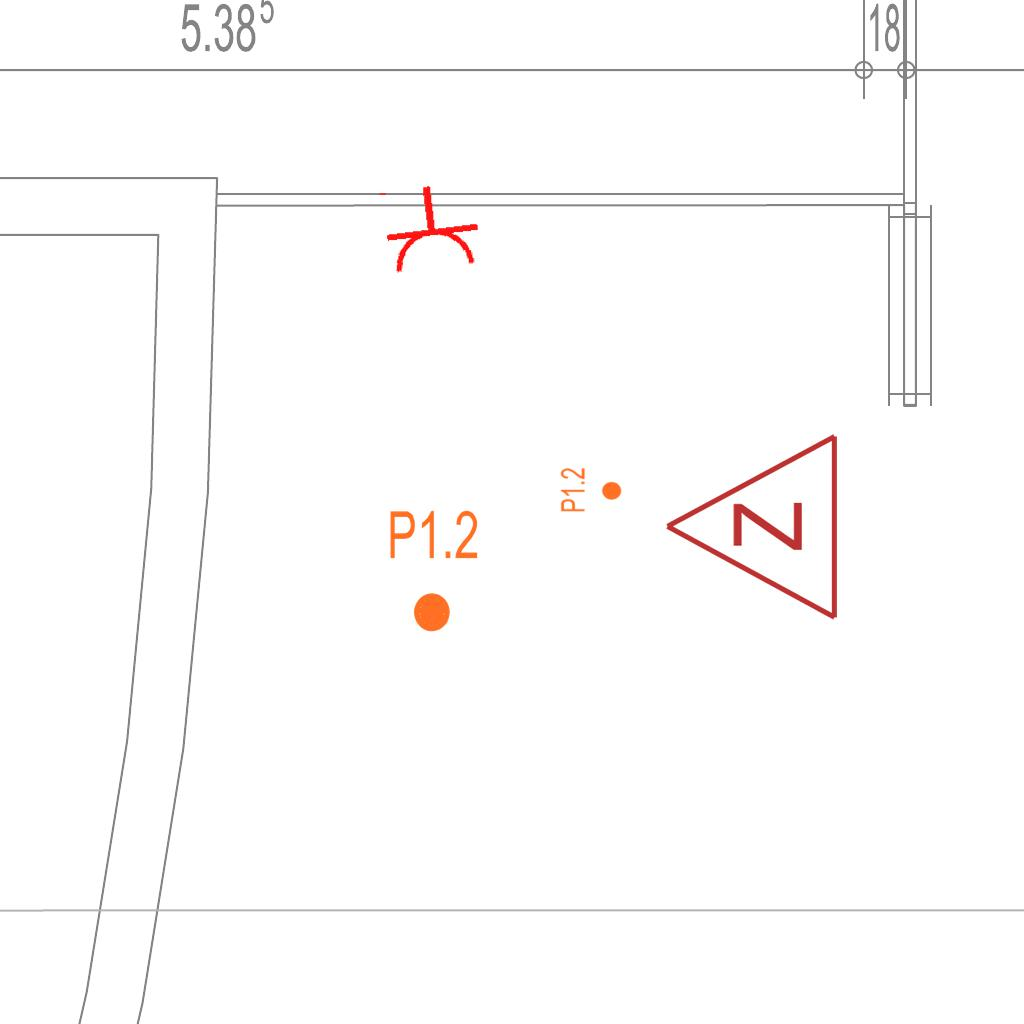Downlight_LED_Einbauleuchten_Flur: (387, 507, 480, 635), (559, 467, 623, 513)
Schukosteckdose_einfach: (374, 178, 485, 278)
Zimmersignalleuchte: (652, 431, 852, 627)
